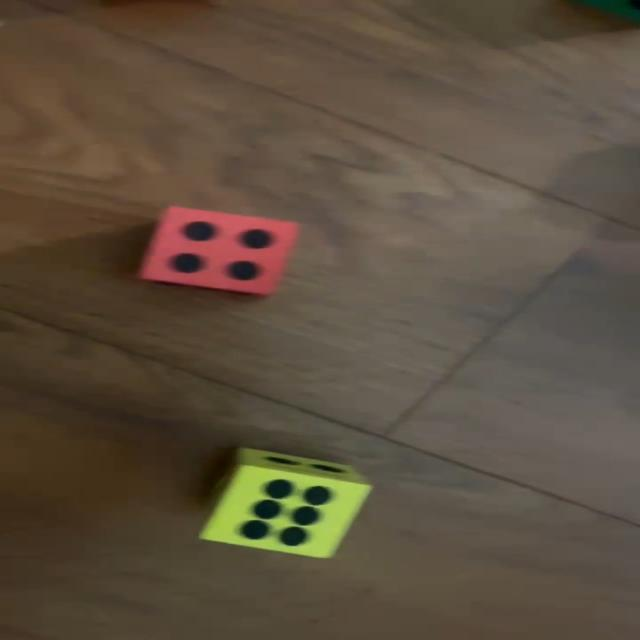red_block: (144, 209, 299, 296)
